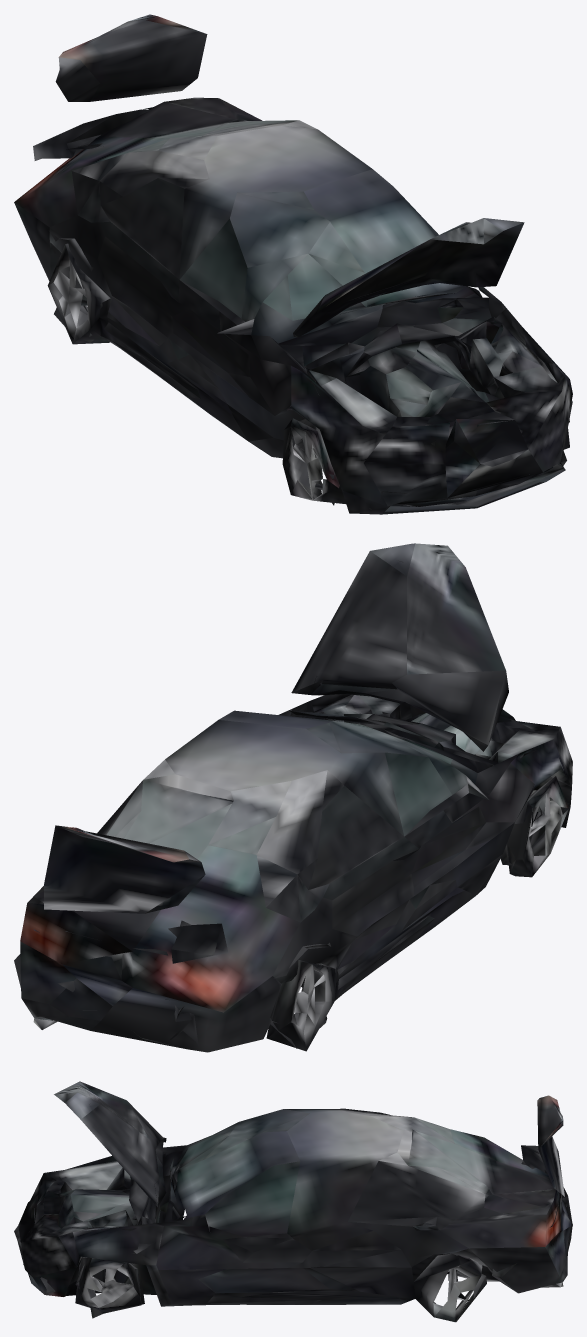
The model's file is mobil_kap_buka_lod2.glb.
3 renders of one model, top to bottom at view 1: azimuth 30°, elevation 25°; view 2: azimuth 150°, elevation 25°; view 3: azimuth 270°, elevation 25°, orthographic. The views are drawn at different scales.
Parts seen in each view (by area): view 1: tripo_node_d769bdaf; view 2: tripo_node_d769bdaf; view 3: tripo_node_d769bdaf.
Boxes of the visible parts, x1,y1,x2,y2 form: tripo_node_d769bdaf: [14, 14, 572, 514]; tripo_node_d769bdaf: [14, 543, 572, 1052]; tripo_node_d769bdaf: [14, 1081, 572, 1322].
Bounding box in the file's own units: 40.37 × 39.14 × 97.76.
Materials: 1 (1 with a texture image).
